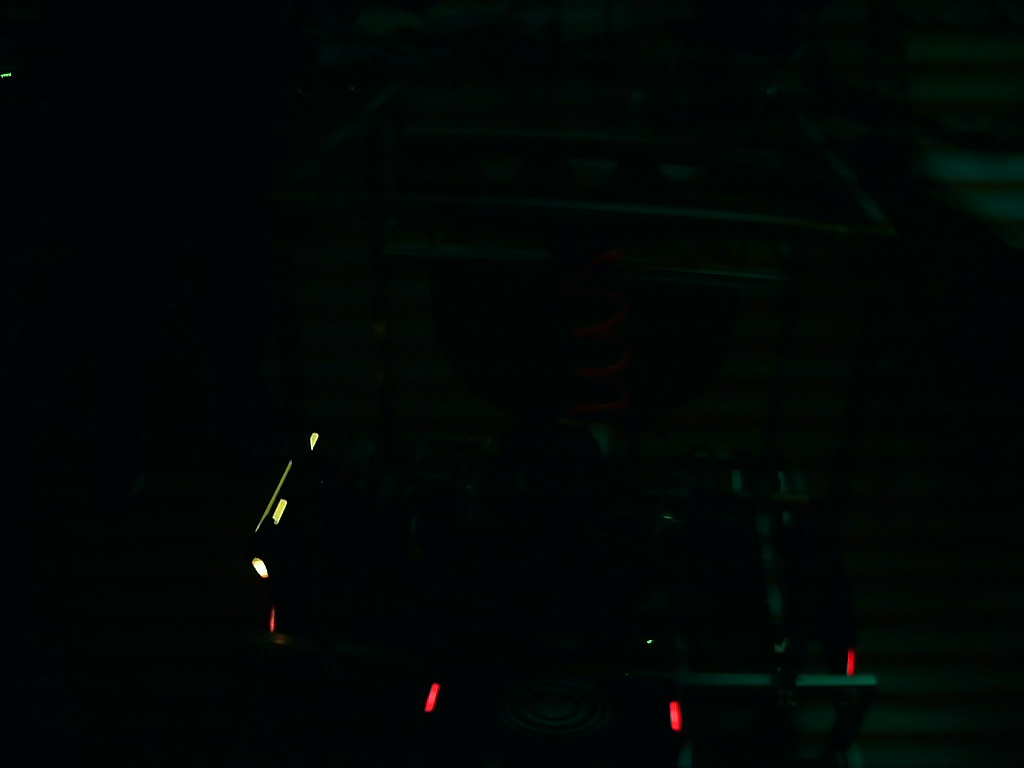lamp: (664, 700, 687, 732), (425, 679, 440, 717)
